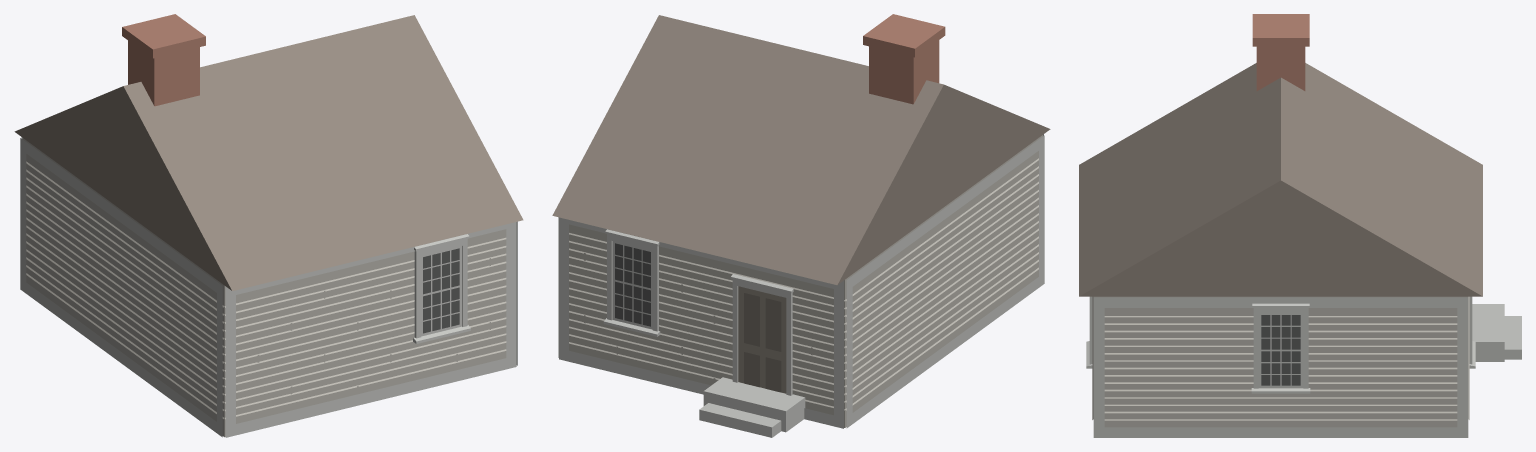
The model's file is recon_1835_blk_school_section_tier_94_d3_05__inferred_1835.glb.
3 renders of one model, left to right at view 1: azimuth 30°, elevation 25°; view 2: azimuth 150°, elevation 25°; view 3: azimuth 270°, elevation 25°, orthographic. The views are drawn at different scales.
Parts seen in each view (by area): view 1: recon_1835_blk_school_section_tier_94_d3_05__inferred_1835; view 2: recon_1835_blk_school_section_tier_94_d3_05__inferred_1835; view 3: recon_1835_blk_school_section_tier_94_d3_05__inferred_1835.
Part boxes in pixels (x1,y1,x2,y2): recon_1835_blk_school_section_tier_94_d3_05__inferred_1835: (14, 14, 523, 437); recon_1835_blk_school_section_tier_94_d3_05__inferred_1835: (552, 14, 1050, 437); recon_1835_blk_school_section_tier_94_d3_05__inferred_1835: (1079, 14, 1521, 437).
Bounding box in the file's own units: 5.51 × 5.65 × 7.62.
